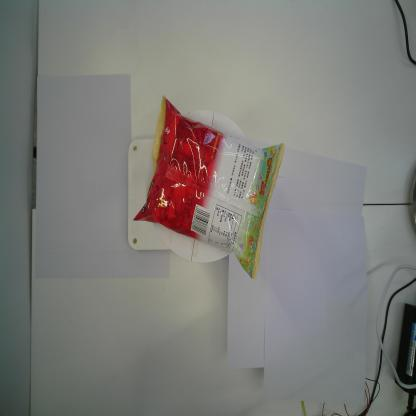Puffed Food: (132, 95, 286, 280)
